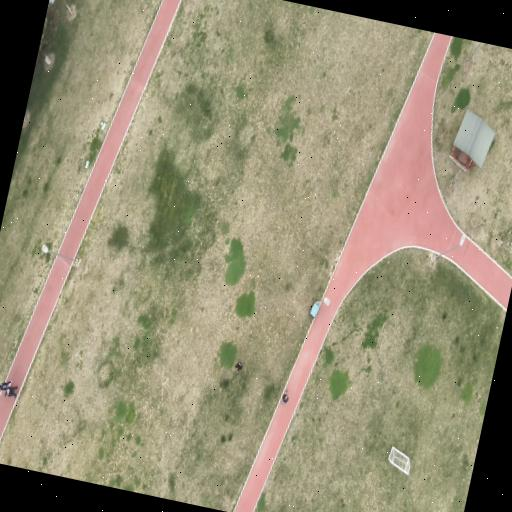person: (6, 386, 18, 397), (0, 381, 11, 393), (282, 391, 288, 404), (236, 362, 242, 371)
